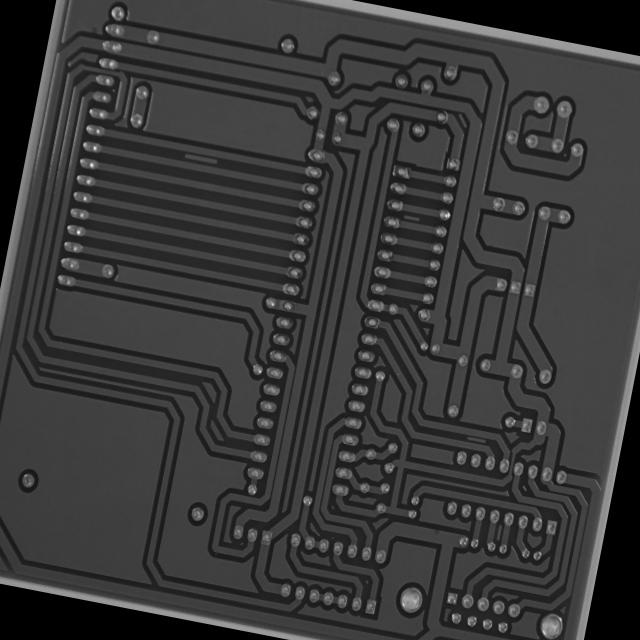spurious_copper: (180, 148, 222, 170), (452, 109, 472, 133), (464, 430, 489, 449), (400, 210, 423, 225), (492, 521, 506, 543)
